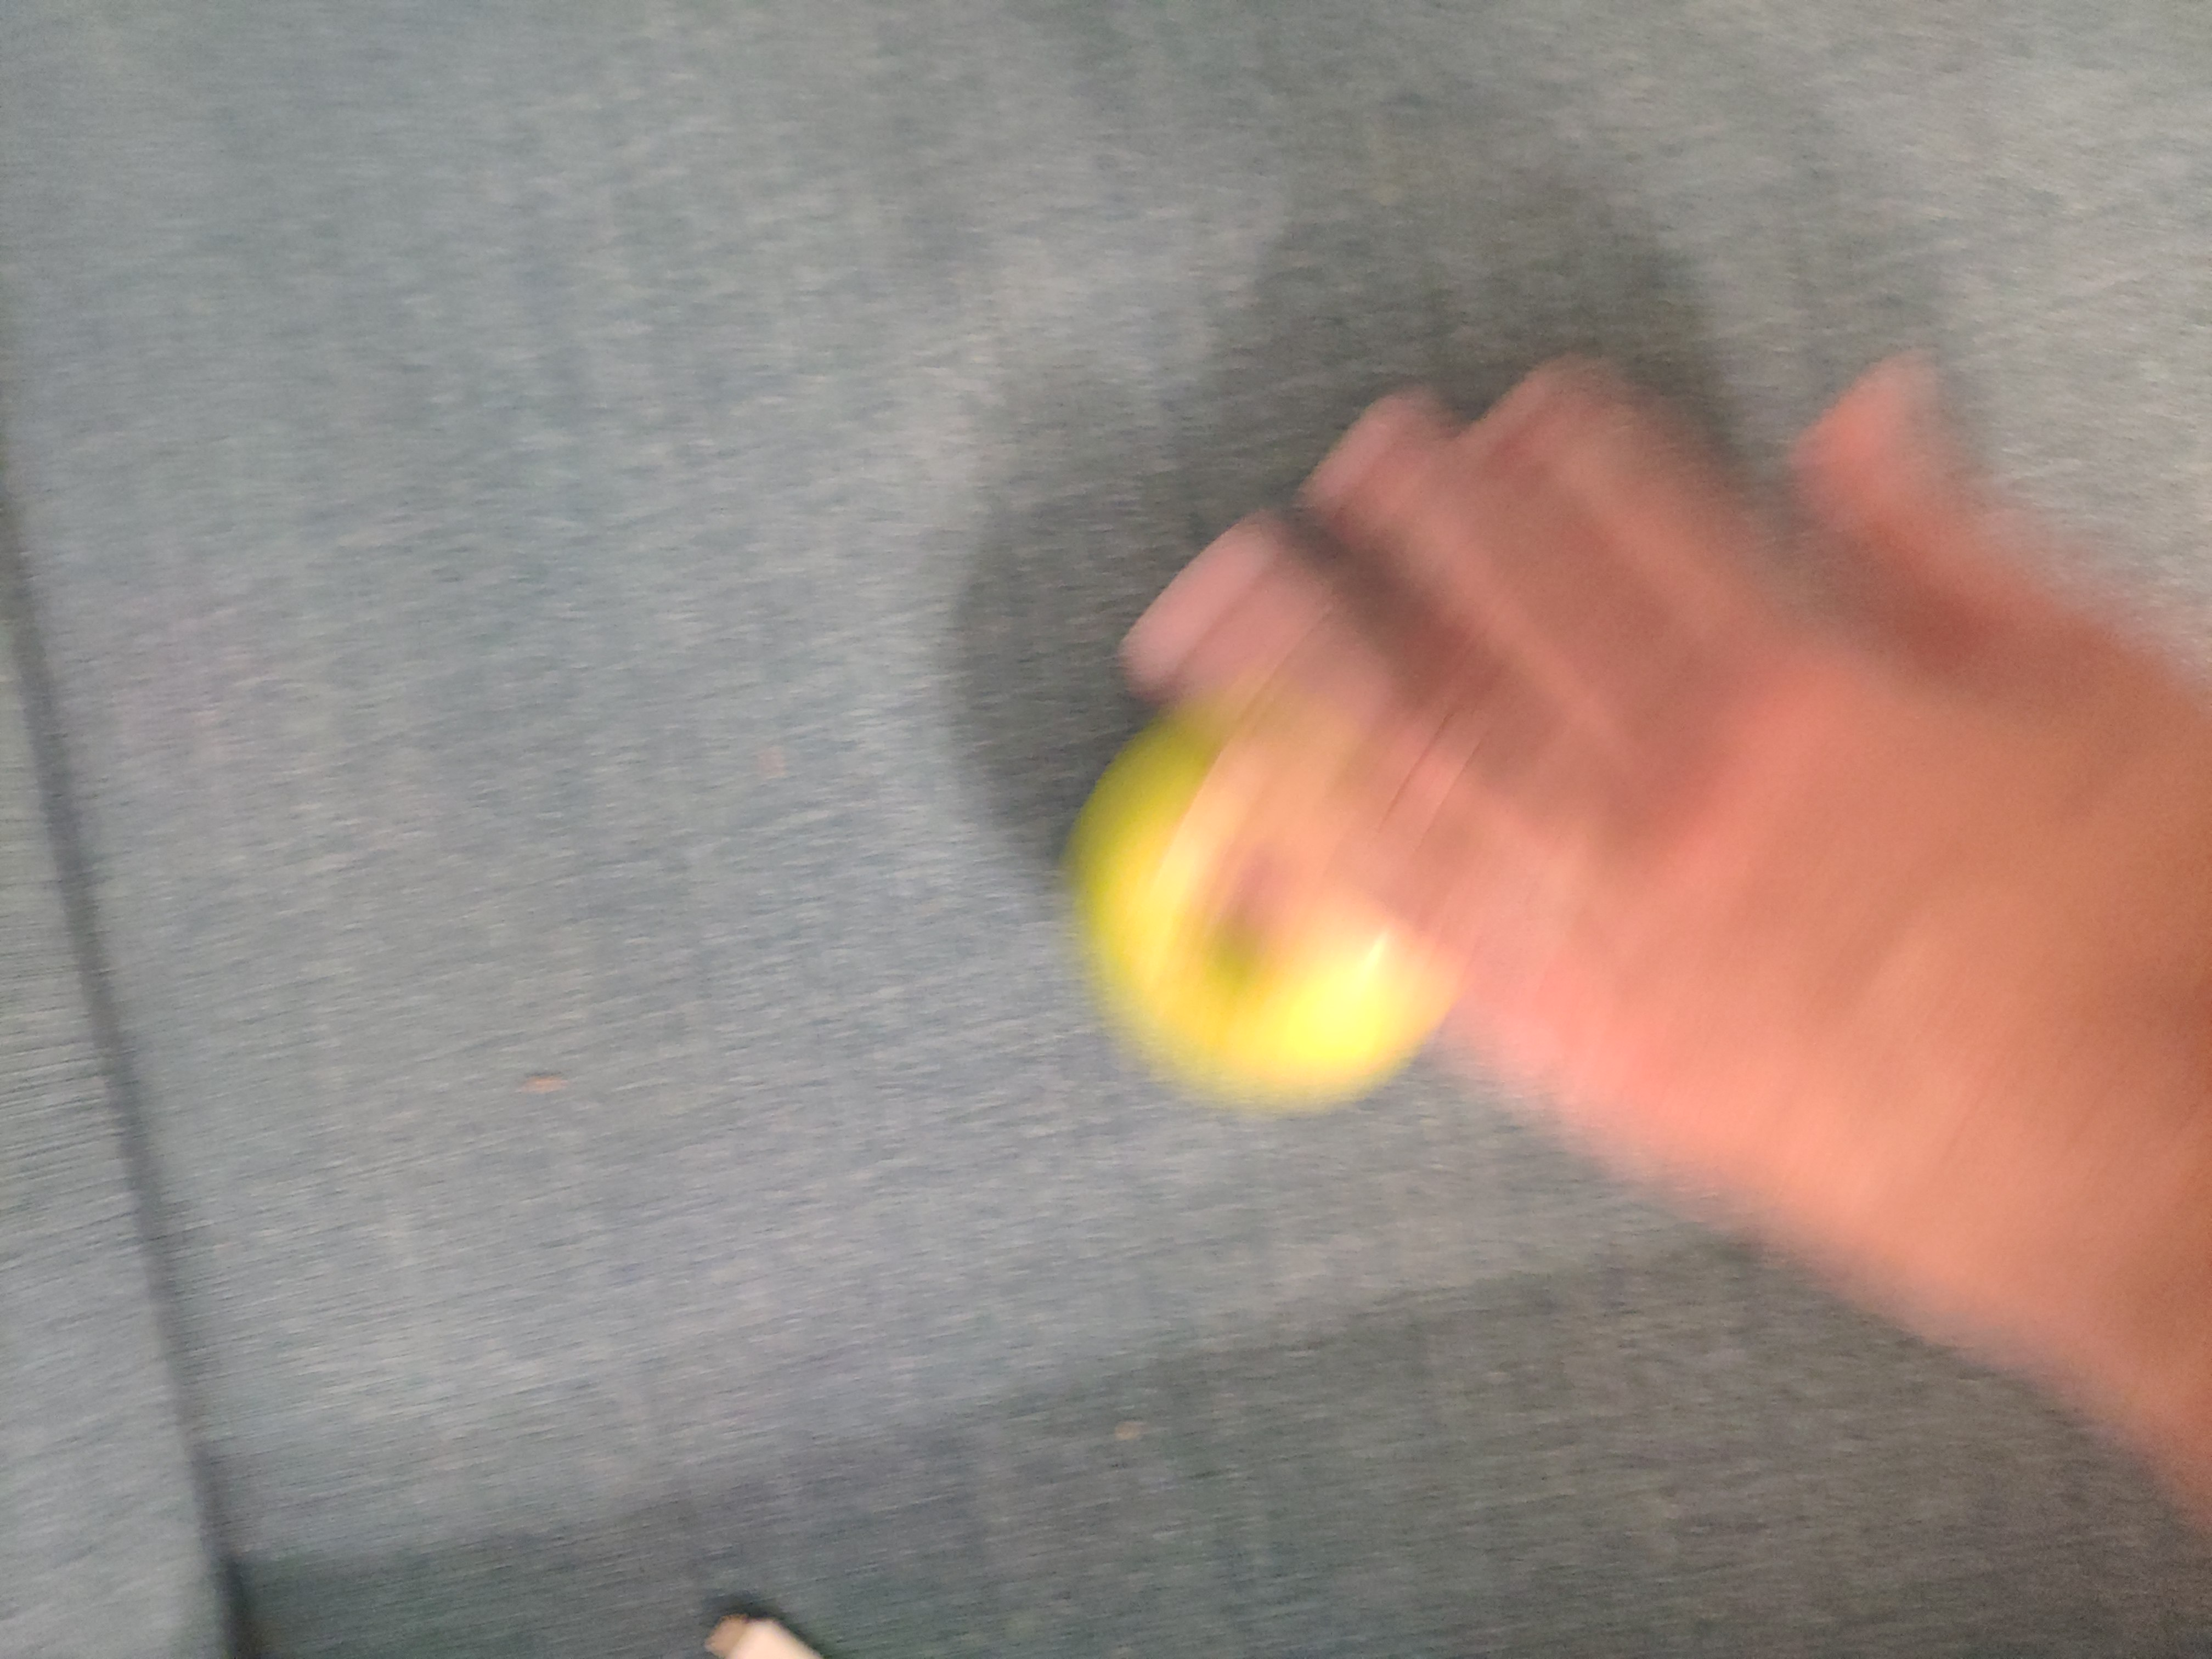apple: (993, 638, 1778, 1206)
